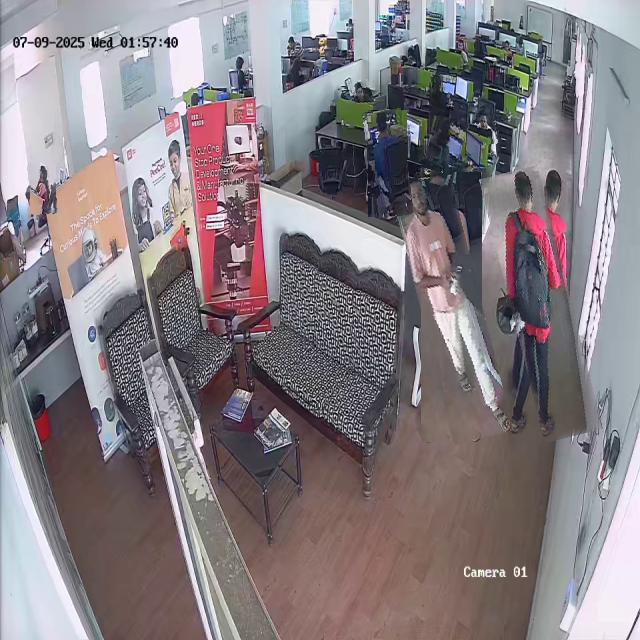person: (405, 170, 498, 444), (496, 166, 588, 442), (365, 109, 410, 218), (421, 116, 464, 186), (29, 163, 57, 214), (430, 72, 452, 112), (476, 108, 498, 145), (353, 80, 373, 108)
